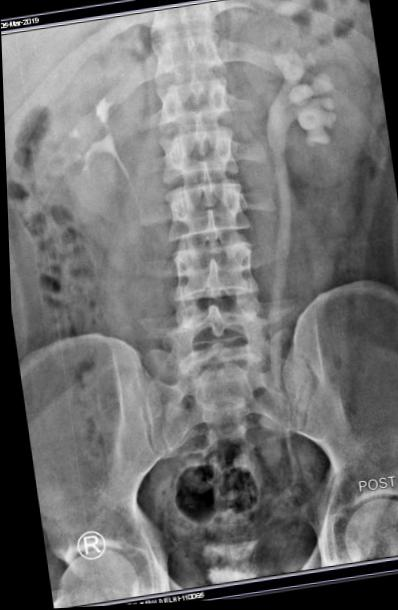left kidney: (231, 3, 387, 207)
right kidney: (6, 45, 159, 254)
vertebrae: (150, 75, 235, 137)
